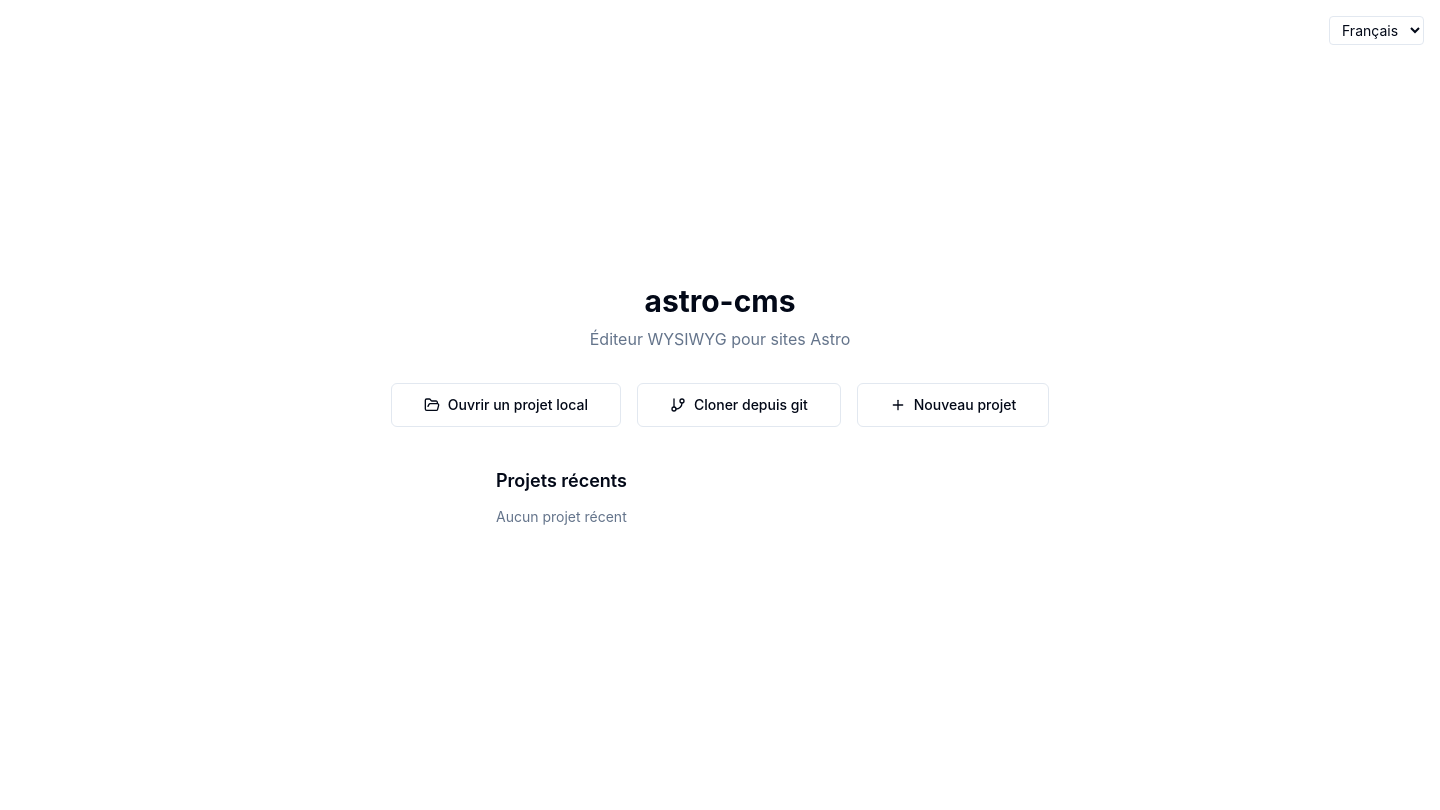
App flow › shows project info after opening a valid project
What coordinates should you click on to do the following:
click the button "Ouvrir un projet local"
I would click on:
 (506, 405)
Its box is [391,383,621,427].
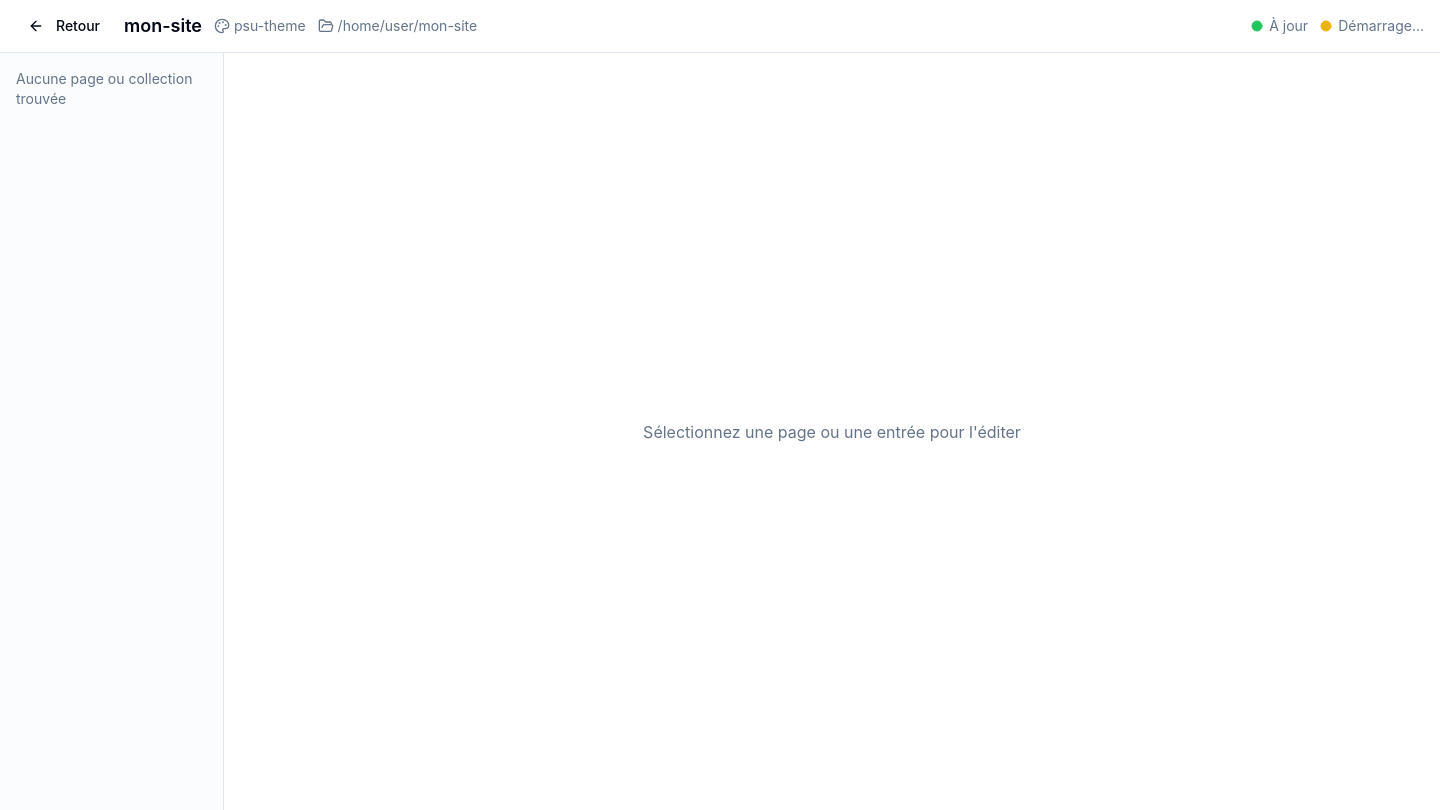
Expected: the heading "mon-site" is shown, [124,12,202,40]
Expected: the text "psu-theme" is shown, [214,16,306,36]
Expected: the text "/home/user/mon-site" is shown, [318,16,477,36]
